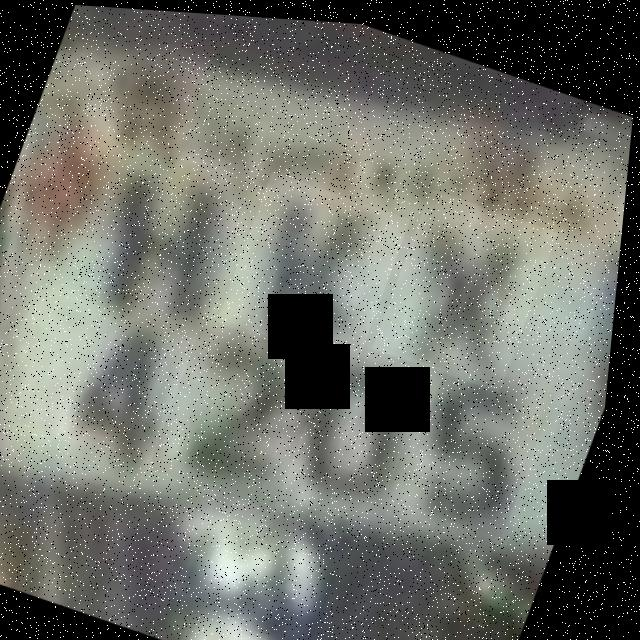0: (267, 319, 454, 529)
2: (154, 311, 339, 509)
4: (41, 283, 214, 484)
5: (391, 345, 564, 532)
N: (218, 166, 417, 368), (75, 137, 263, 340)
X: (376, 180, 564, 386)
